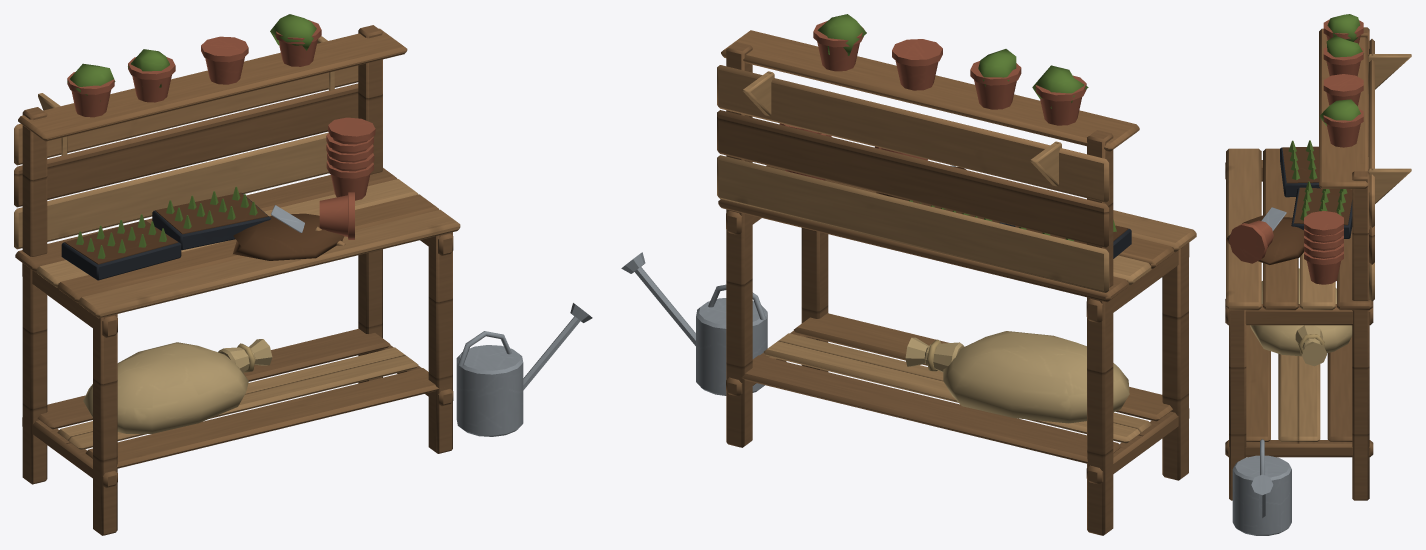
Rendered from potting_bench.glb.
3 renders of one model, left to right at view 1: azimuth 30°, elevation 25°; view 2: azimuth 150°, elevation 25°; view 3: azimuth 270°, elevation 25°, orthographic. The views are drawn at different scales.
Parts seen in each view (by area): view 1: potting_bench; view 2: potting_bench; view 3: potting_bench.
Part boxes in pixels (x1,y1,x2,y2): potting_bench: (14,14,592,535); potting_bench: (621,14,1196,535); potting_bench: (1225,14,1411,535).
Size of the model in its own units: 2.11 by 1.61 by 0.7558.
13 materials, 13 textured.
